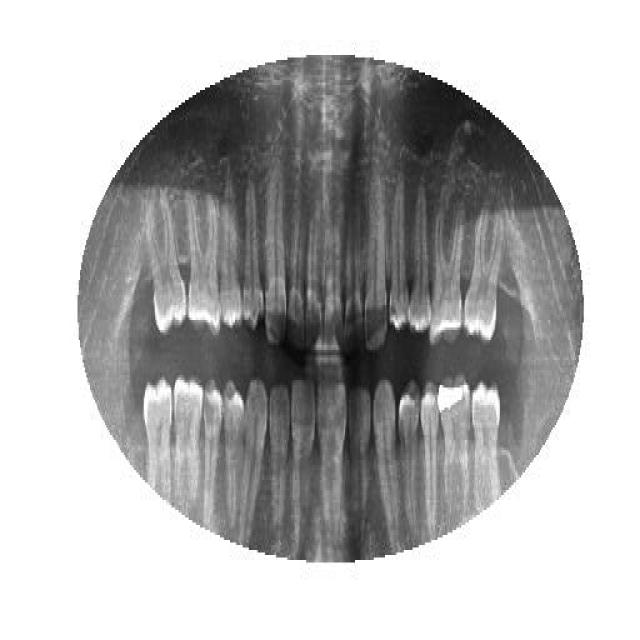Fillings: (438, 375, 472, 527)
